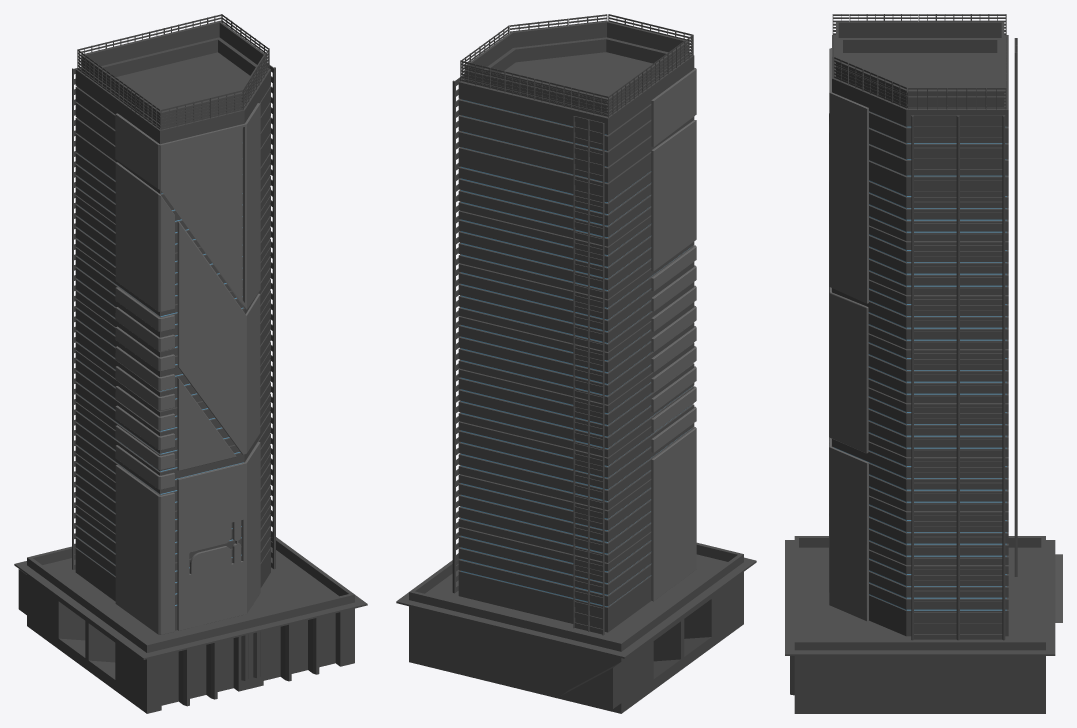
Rendered from Scifi_Building_1.fbx.
3 views of the same model, side by side, from view 1: azimuth 30°, elevation 25°; view 2: azimuth 150°, elevation 25°; view 3: azimuth 270°, elevation 25° (orthographic). The views are drawn at different scales.
Parts seen in each view (by area): view 1: polySurface19, polySurface4, polySurface20, polySurface46, polySurface24, polySurface47, polySurface22, polySurface52, polySurface51, polySurface49, polySurface50, polySurface53 (+17 smaller); view 2: polySurface19, polySurface4, polySurface51, polySurface49, polySurface52, polySurface50, polySurface48, polySurface53, polySurface6, polySurface54, polySurface47, polySurface22 (+23 smaller); view 3: polySurface19, polySurface4, polySurface20, polySurface46, polySurface24, polySurface52, polySurface49, polySurface51, polySurface50, polySurface48, polySurface53, polySurface6 (+12 smaller).
Boxes of the visible parts, x1,y1,x2,y2 form: polySurface19: [14, 536, 367, 713]; polySurface4: [75, 21, 270, 203]; polySurface20: [115, 103, 260, 309]; polySurface46: [177, 442, 260, 630]; polySurface24: [177, 221, 260, 454]; polySurface47: [115, 465, 174, 634]; polySurface22: [115, 162, 174, 311]; polySurface52: [75, 402, 270, 510]; polySurface51: [75, 350, 270, 459]; polySurface49: [75, 247, 270, 357]; polySurface50: [75, 298, 270, 411]; polySurface53: [75, 453, 270, 562]; polySurface19: [396, 542, 756, 713]; polySurface4: [458, 21, 694, 194]; polySurface51: [458, 343, 694, 457]; polySurface49: [458, 242, 694, 351]; polySurface52: [458, 403, 694, 509]; polySurface50: [458, 302, 694, 404]; polySurface48: [458, 210, 651, 299]; polySurface53: [458, 474, 651, 562]; polySurface6: [458, 159, 651, 246]; polySurface54: [458, 527, 651, 611]; polySurface47: [651, 426, 696, 601]; polySurface22: [651, 120, 696, 271]; polySurface19: [785, 536, 1062, 713]; polySurface4: [832, 21, 1008, 188]; polySurface20: [829, 48, 868, 303]; polySurface46: [829, 436, 868, 621]; polySurface24: [829, 144, 868, 453]; polySurface52: [832, 439, 1008, 510]; polySurface49: [832, 279, 1008, 348]; polySurface51: [868, 387, 1008, 456]; polySurface50: [868, 333, 1008, 402]; polySurface48: [869, 225, 1008, 294]; polySurface53: [869, 495, 1008, 564]; polySurface6: [869, 172, 1008, 240].
Size of what is drawn, in the model's own units: 10.45 by 26.16 by 10.74.
